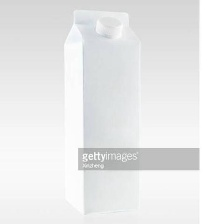carton: (59, 7, 157, 219)
